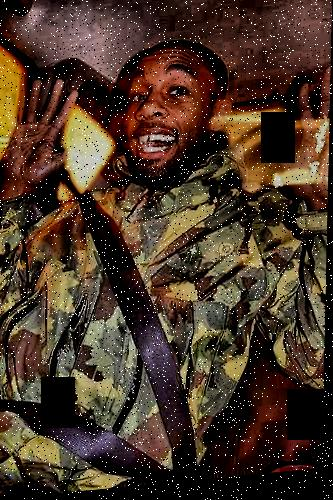seatbelt: (30, 162, 203, 481)
